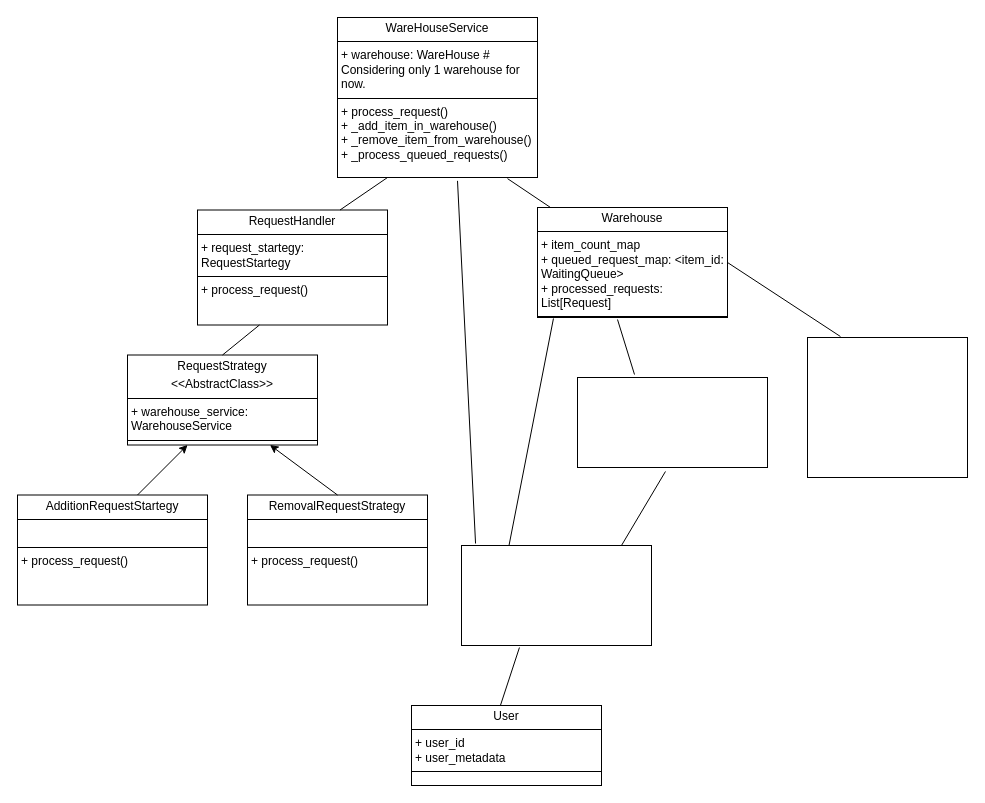
Some shapes in this 985 by 803 pixel diagram are drawn without their labels. The shapes that lost their labels are listed below. From the top down, each one's centre as x and y in pixels, then its label:
the point at 672,422: WaitingQueue + queued_requests: Queue<Request> + try_fulfilling_requests()
the point at 887,407: Item + item_id + amount + name + metadata + getters() + setters()
the point at 556,595: Request + command: CommandType + user + quantity + item_id
